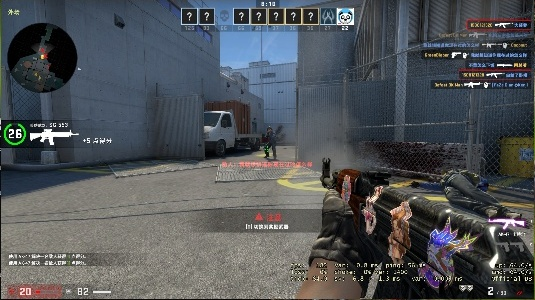body: (263, 126, 279, 159)
head: (267, 127, 273, 132)
